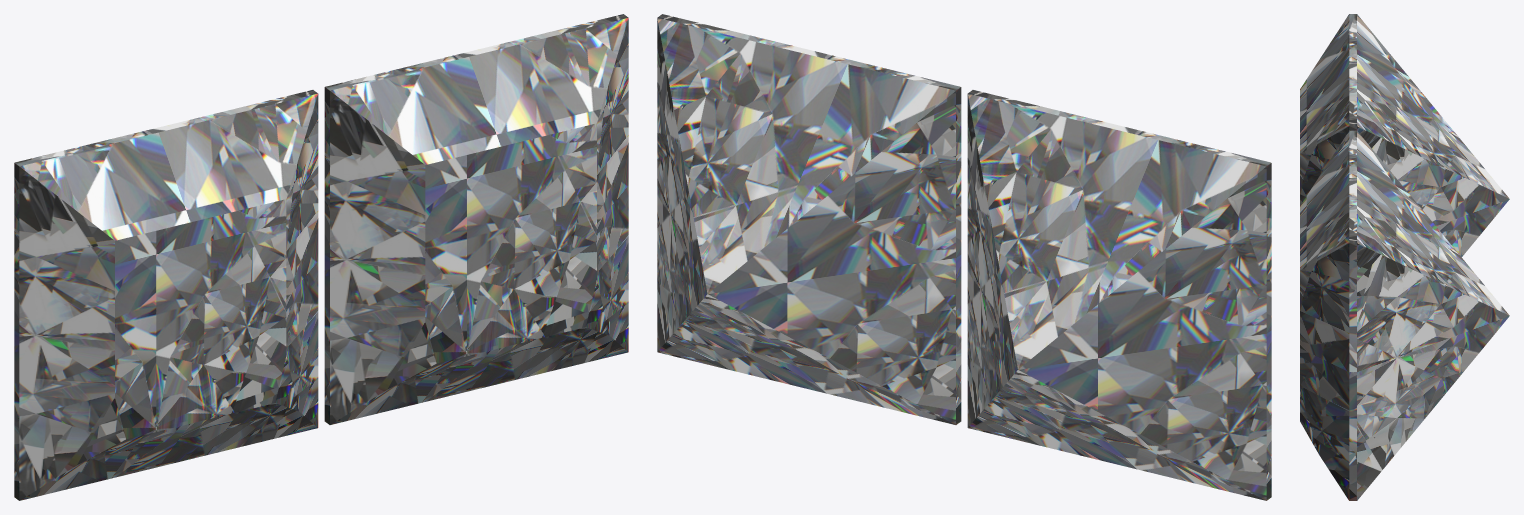
3 views of the same model, side by side, from view 1: azimuth 30°, elevation 25°; view 2: azimuth 150°, elevation 25°; view 3: azimuth 270°, elevation 25° (orthographic). The views are drawn at different scales.
Parts seen in each view (by area): view 1: Square_Diamond, Square_Diamond.001; view 2: Square_Diamond, Square_Diamond.001; view 3: Square_Diamond.001, Square_Diamond.
Boxes of the visible parts, <box> form: Square_Diamond: <box>14,90,318,500</box>; Square_Diamond.001: <box>324,14,628,424</box>; Square_Diamond: <box>967,90,1271,500</box>; Square_Diamond.001: <box>657,14,961,424</box>; Square_Diamond.001: <box>1300,130,1509,500</box>; Square_Diamond: <box>1300,14,1509,257</box>.
Bounding box in the file's own units: 0.012 × 0.00628 × 0.00463.
Materials: 2 (2 with a texture image).
